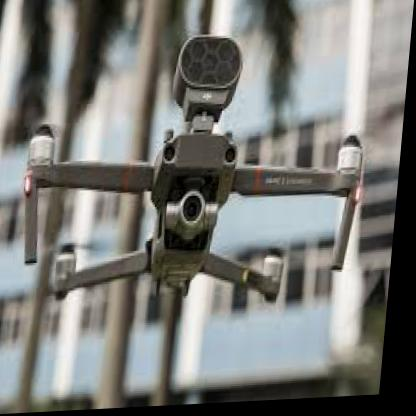UAS: (19, 31, 375, 317)
